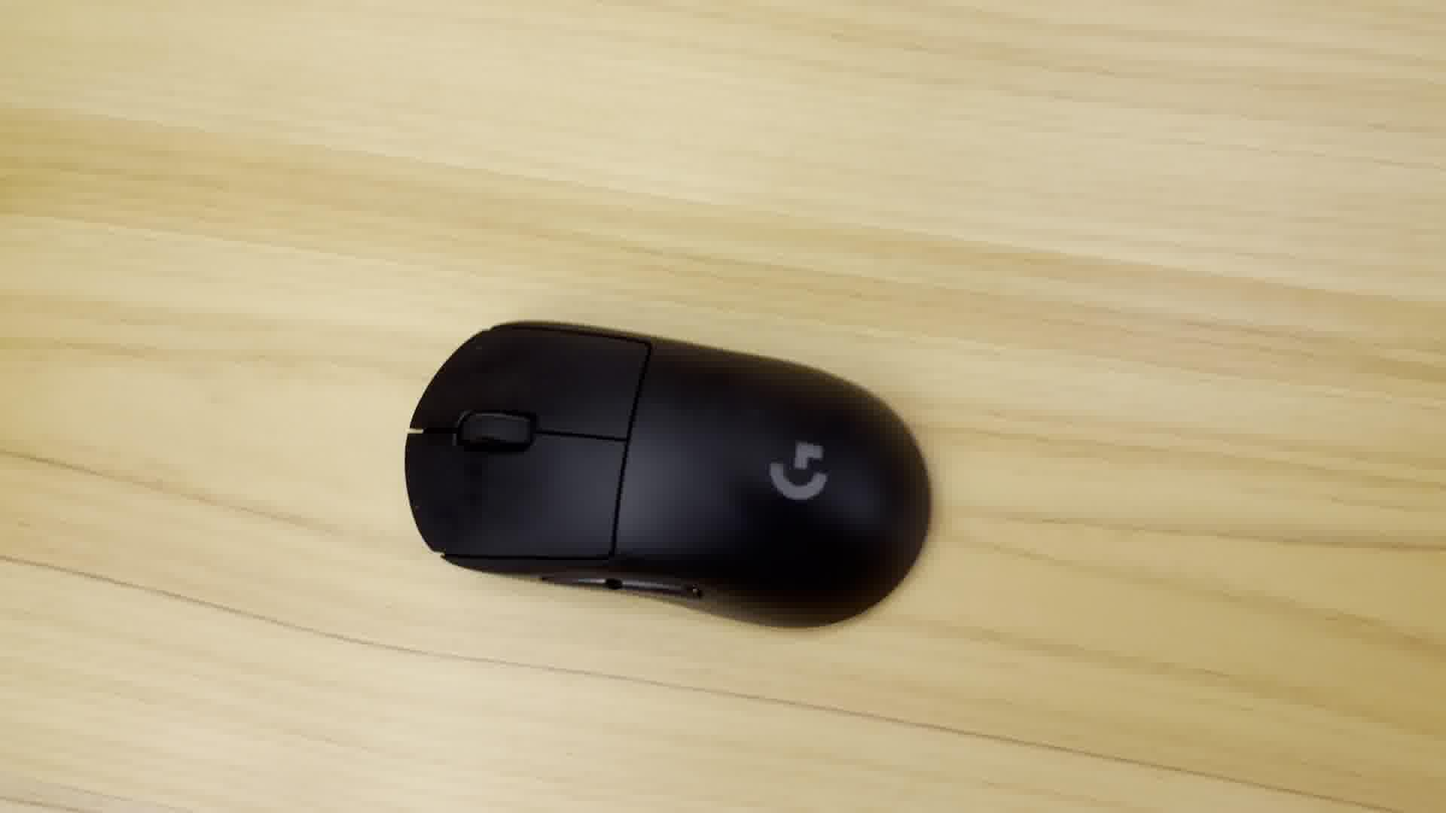mouse: (397, 312, 939, 641)
